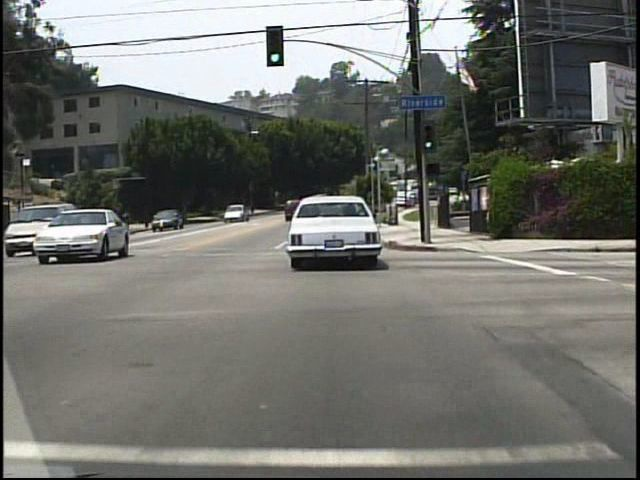person: (124, 208, 135, 232)
